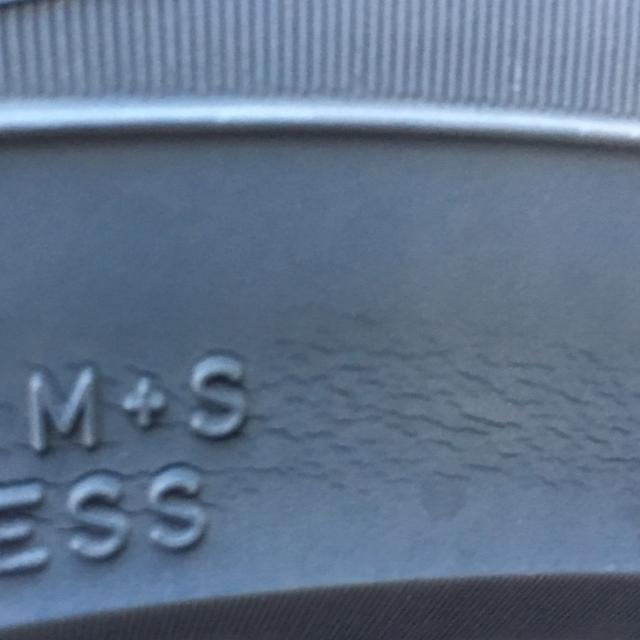Cracks: (0, 336, 640, 573)
